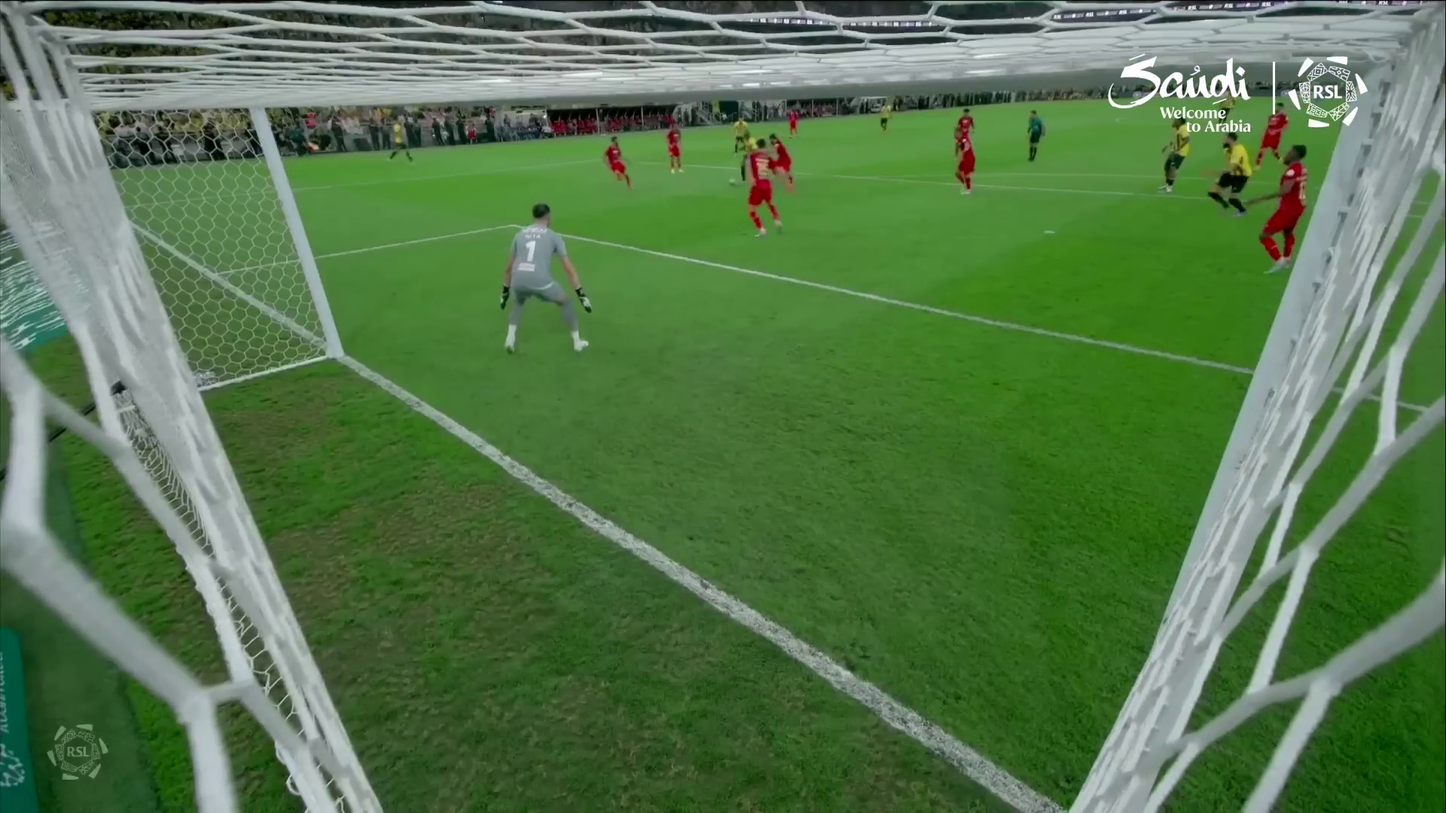ball: (727, 176, 737, 188)
player: (491, 200, 591, 359), (1255, 142, 1310, 276), (1205, 130, 1256, 217), (743, 138, 785, 235), (1156, 120, 1193, 195), (1254, 103, 1289, 169), (949, 126, 980, 197), (599, 136, 637, 191), (660, 111, 688, 176), (766, 132, 797, 186), (726, 109, 761, 155), (390, 120, 416, 164), (740, 130, 758, 181), (952, 105, 975, 142), (875, 103, 892, 132), (788, 115, 801, 135)
referee: (1022, 108, 1049, 165)
